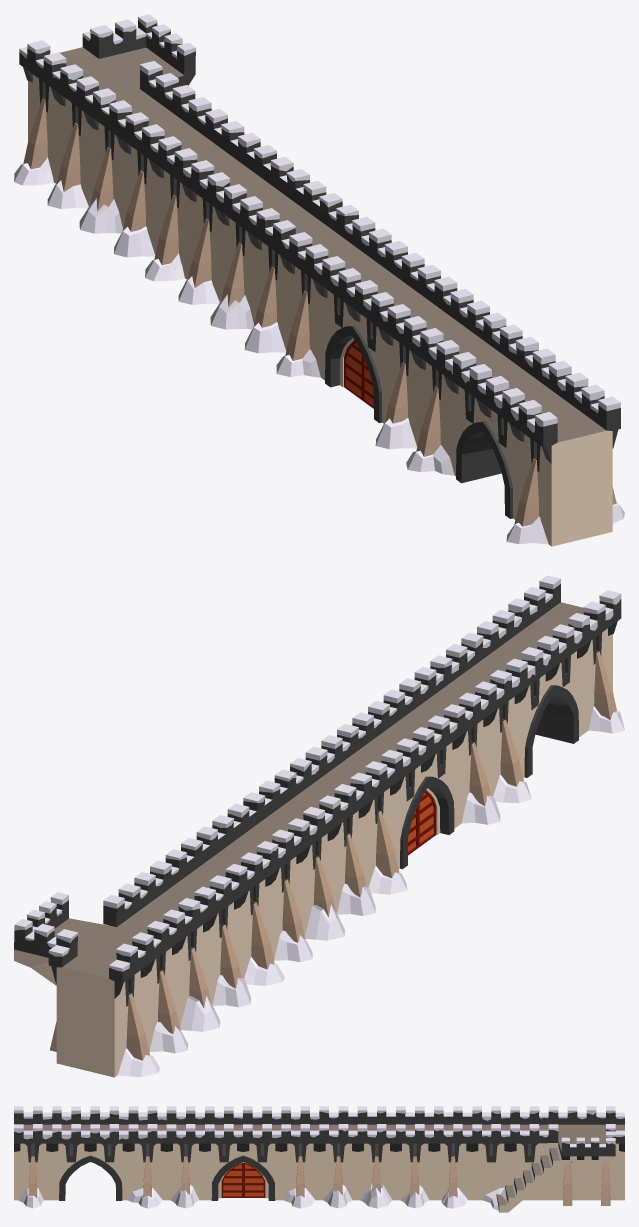
The model's file is walls-pack.glb.
3 views of the same model, one above another, from view 1: azimuth 30°, elevation 25°; view 2: azimuth 150°, elevation 25°; view 3: azimuth 270°, elevation 25° (orthographic). The views are drawn at different scales.
Visible parts, largest first — view 1: Wall1, Wall4, Wall2, Wall3, Wall1.003, Wall1.002, Wall1.001; view 2: Wall4, Wall1, Wall2, Wall3, Wall1.003, Wall1.002, Wall1.001; view 3: Wall4, Wall2, Wall3, Wall1, Wall1.002, Wall1.001, Wall1.003.
Part boxes in pixels (x1,y1,x2,y2): Wall1: [406, 312, 624, 546]; Wall4: [19, 14, 227, 254]; Wall2: [281, 217, 489, 446]; Wall3: [150, 121, 358, 350]; Wall1.003: [14, 157, 155, 257]; Wall1.002: [145, 253, 286, 353]; Wall1.001: [276, 349, 417, 449]; Wall4: [14, 849, 247, 1077]; Wall1: [430, 575, 624, 803]; Wall2: [305, 666, 496, 887]; Wall3: [181, 758, 371, 979]; Wall1.003: [118, 975, 250, 1077]; Wall1.002: [244, 883, 375, 985]; Wall1.001: [368, 792, 500, 894]; Wall4: [472, 1106, 624, 1212]; Wall2: [166, 1106, 319, 1200]; Wall3: [319, 1106, 472, 1200]; Wall1: [14, 1106, 166, 1208]; Wall1.002: [323, 1183, 468, 1208]; Wall1.001: [170, 1185, 315, 1208]; Wall1.003: [482, 1187, 506, 1210].
Size of what is drawn, in the model's own units: 5.08 by 4.29 by 32.
Materials: 1 (1 with a texture image).
